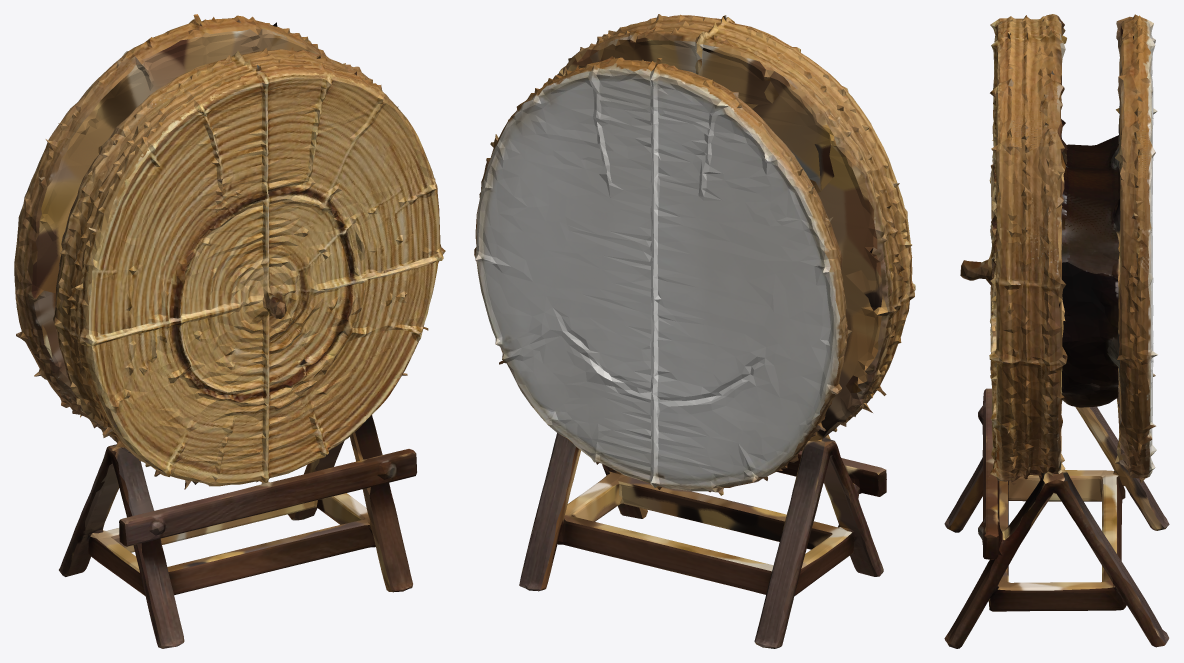
Rendered from traveler_env_coast_castle_lion_makiwara_00001_.glb.
3 views of the same model, side by side, from view 1: azimuth 30°, elevation 25°; view 2: azimuth 150°, elevation 25°; view 3: azimuth 270°, elevation 25° (orthographic). The views are drawn at different scales.
Parts seen in each view (by area): view 1: temp_mesh.ply; view 2: temp_mesh.ply; view 3: temp_mesh.ply.
Boxes of the visible parts, bbox=[...] form: temp_mesh.ply: bbox=[14, 14, 445, 648]; temp_mesh.ply: bbox=[474, 14, 915, 648]; temp_mesh.ply: bbox=[944, 14, 1169, 648].
Size of the model in its own units: 1.4 by 1.96 by 0.7142.
1 material, 1 textured.
